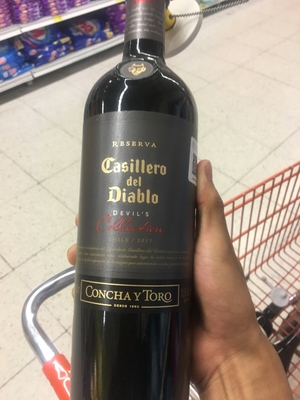casillero del diablo devils collection rojo: (73, 19, 218, 400)
